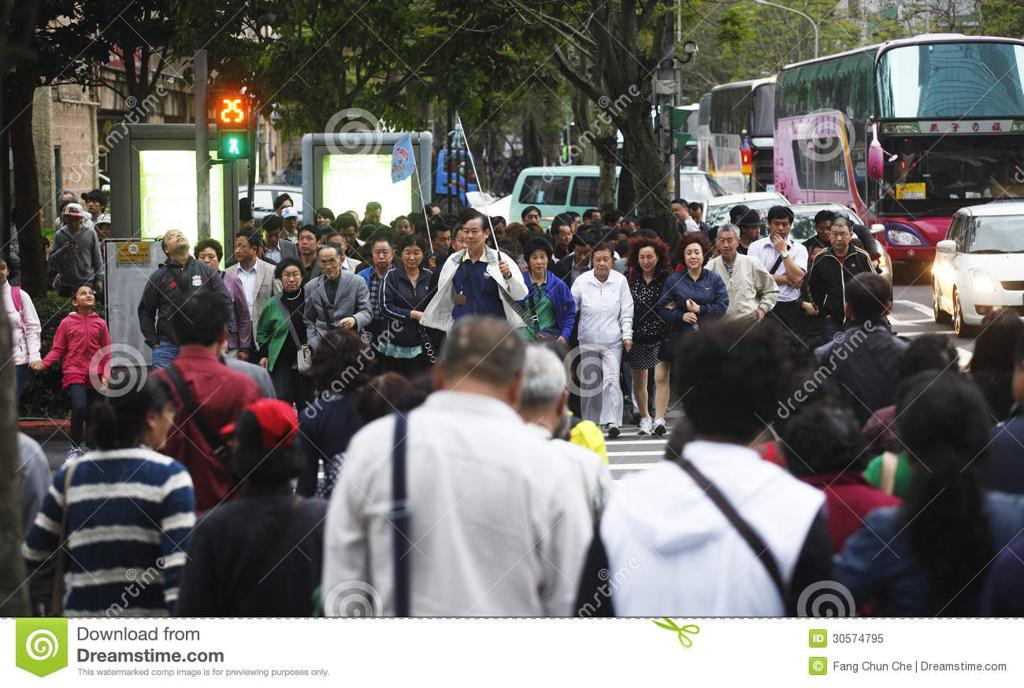face: (155, 399, 173, 446), (280, 264, 302, 291), (197, 247, 218, 273), (320, 247, 337, 277), (464, 222, 481, 251), (401, 244, 420, 269), (718, 230, 735, 257), (168, 230, 189, 250), (373, 242, 389, 268), (771, 216, 789, 239), (638, 247, 655, 271), (594, 250, 611, 274), (685, 244, 702, 267), (433, 227, 450, 249), (832, 225, 848, 248), (455, 229, 471, 252), (531, 251, 547, 273), (298, 229, 313, 252), (329, 235, 344, 258), (575, 243, 591, 264), (236, 237, 250, 261), (818, 220, 832, 241), (78, 287, 93, 306), (65, 212, 80, 229), (623, 222, 635, 243), (748, 222, 761, 240), (395, 216, 407, 235), (279, 200, 291, 218), (527, 211, 540, 227), (672, 202, 684, 219), (87, 196, 99, 213), (98, 222, 110, 239), (341, 226, 353, 242), (559, 225, 571, 241), (284, 214, 295, 231), (266, 226, 276, 242), (369, 207, 379, 223), (317, 213, 328, 227), (691, 209, 701, 224), (431, 206, 439, 224), (591, 212, 600, 228), (493, 222, 503, 235), (574, 217, 581, 234)
